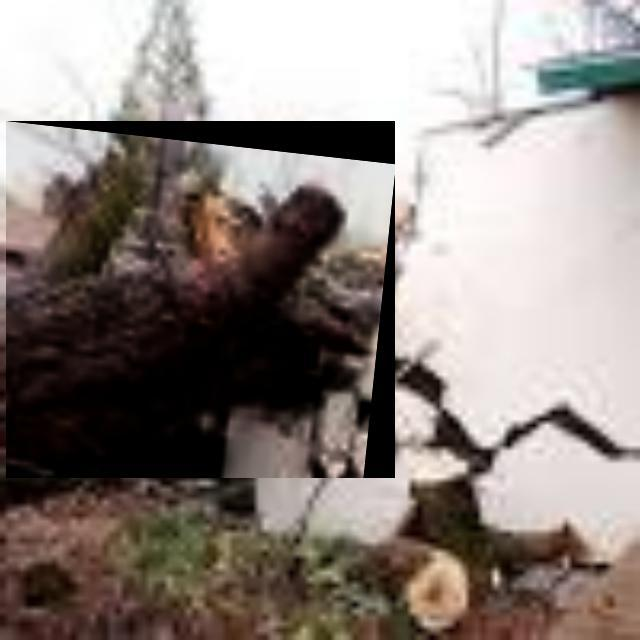fallen_tree: (6, 121, 396, 479)
